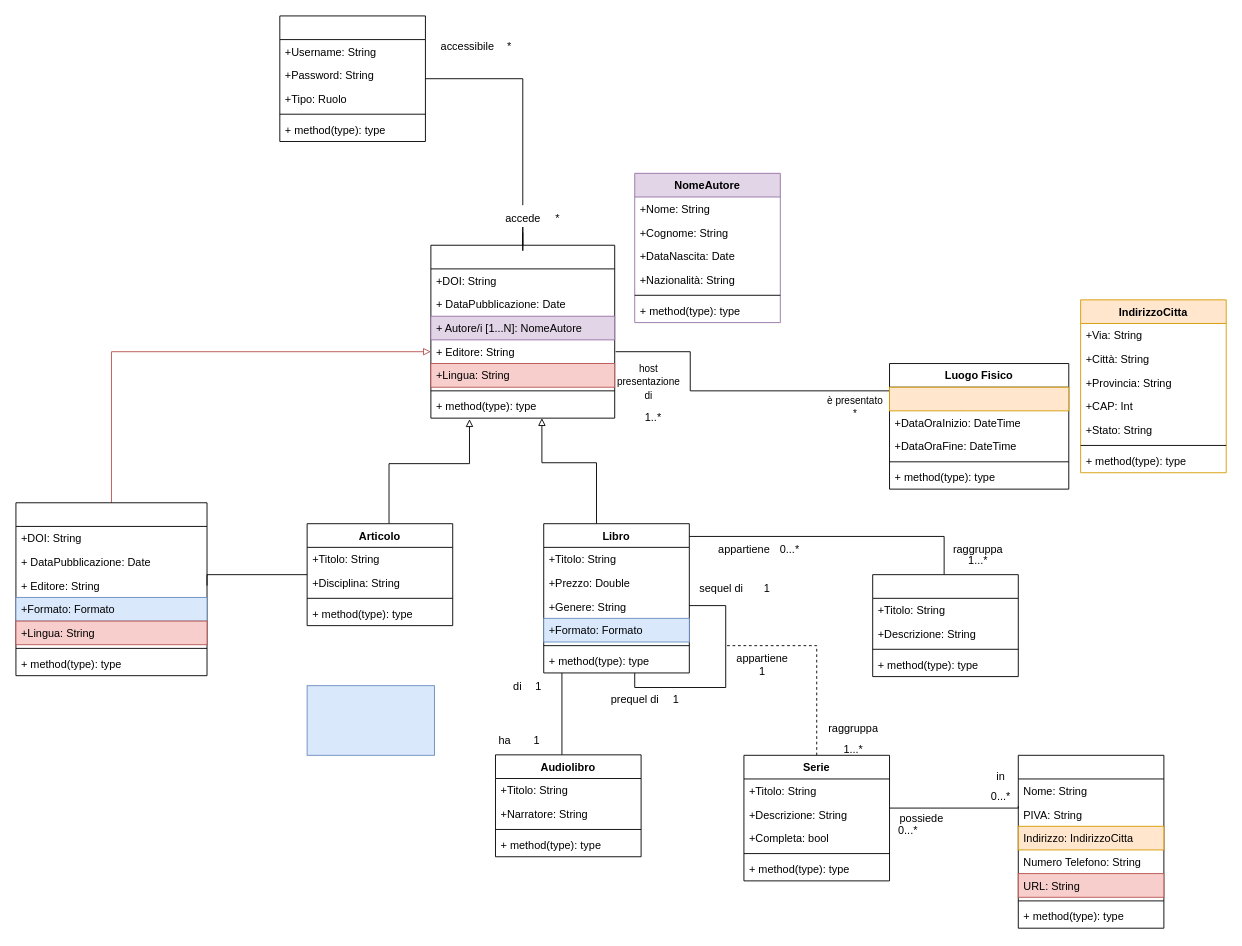
The diagram is 1242 pixels wide and 946 high, and some of its shapes have lost their labels. Here are the shapes that lost their labels. From the top down, the box of each, then its label:
(279, 15, 425, 142): Utente
(430, 244, 615, 418): Risorsa
(889, 386, 1069, 411): +Indirizzo: IndirizzoCItta
(15, 502, 207, 676): Rivista
(872, 574, 1018, 677): Collana
(306, 685, 435, 755): <<ENUMERATION>> Formato + Cartaceo + Digitale
(1017, 754, 1164, 928): Negozio
